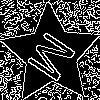M: (25, 29, 85, 90)
